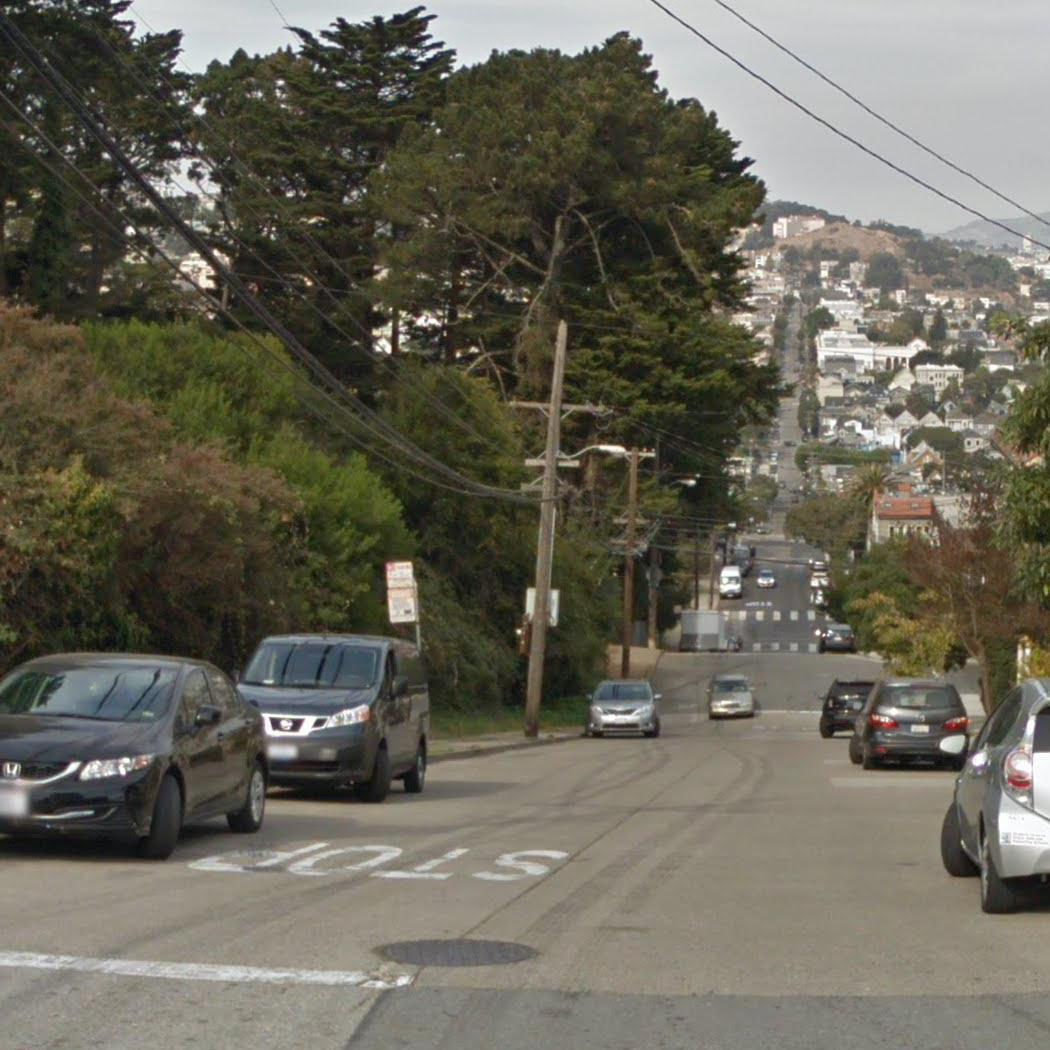No Parking: (385, 559, 416, 590)
